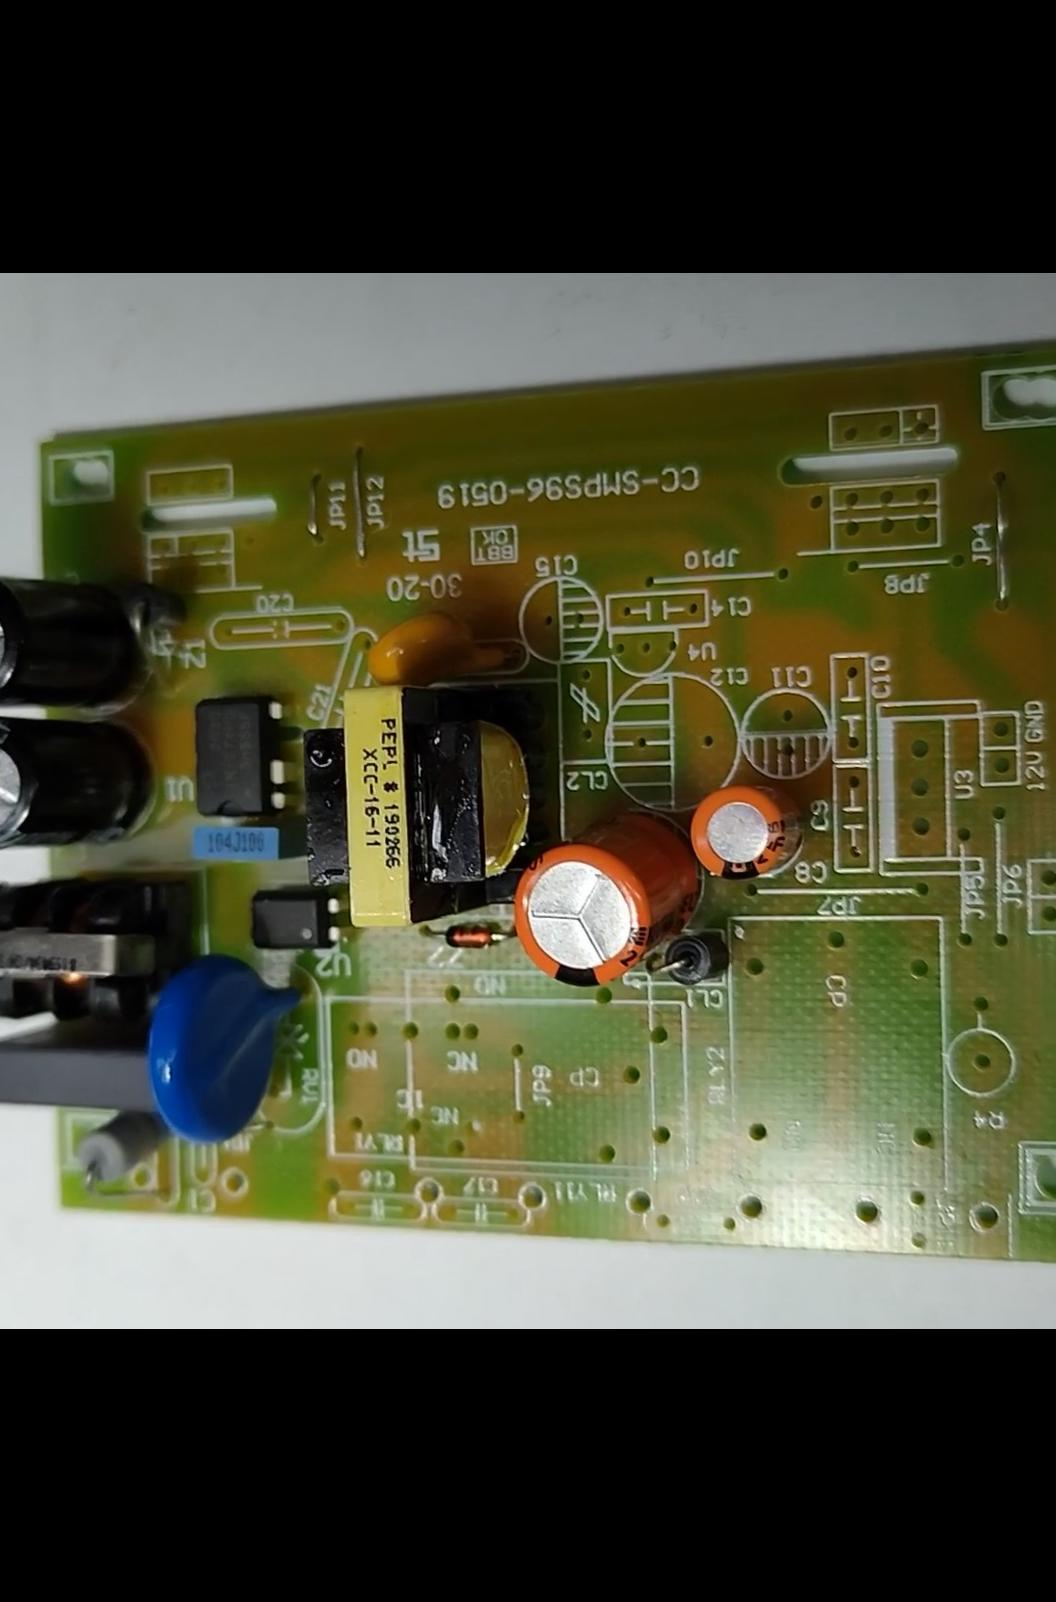Cap1: (507, 827, 705, 986)
Cap2: (684, 780, 798, 881)
Cap3: (0, 714, 148, 853)
Cap4: (0, 572, 152, 711)
MOSFET: (187, 687, 279, 826)
Mov: (145, 954, 309, 1148)
Resistor: (62, 1119, 154, 1191)
Transformer: (301, 669, 554, 934), (0, 882, 179, 1028)
